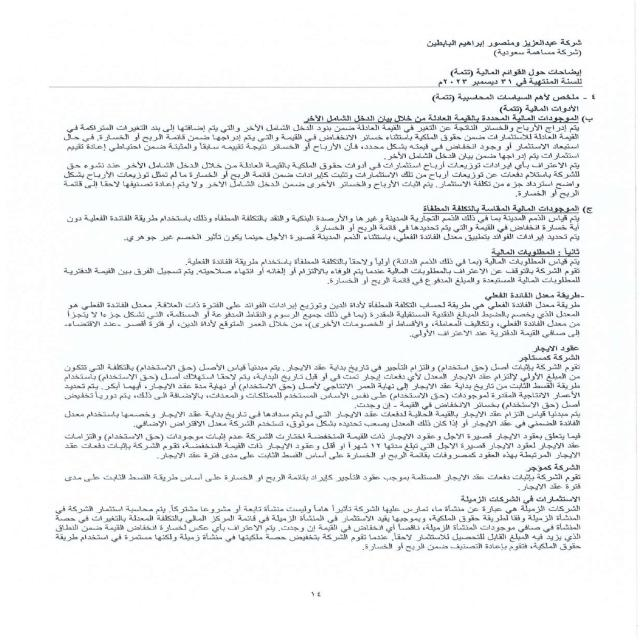notes: (435, 62, 601, 77)
text: (36, 85, 607, 560)
